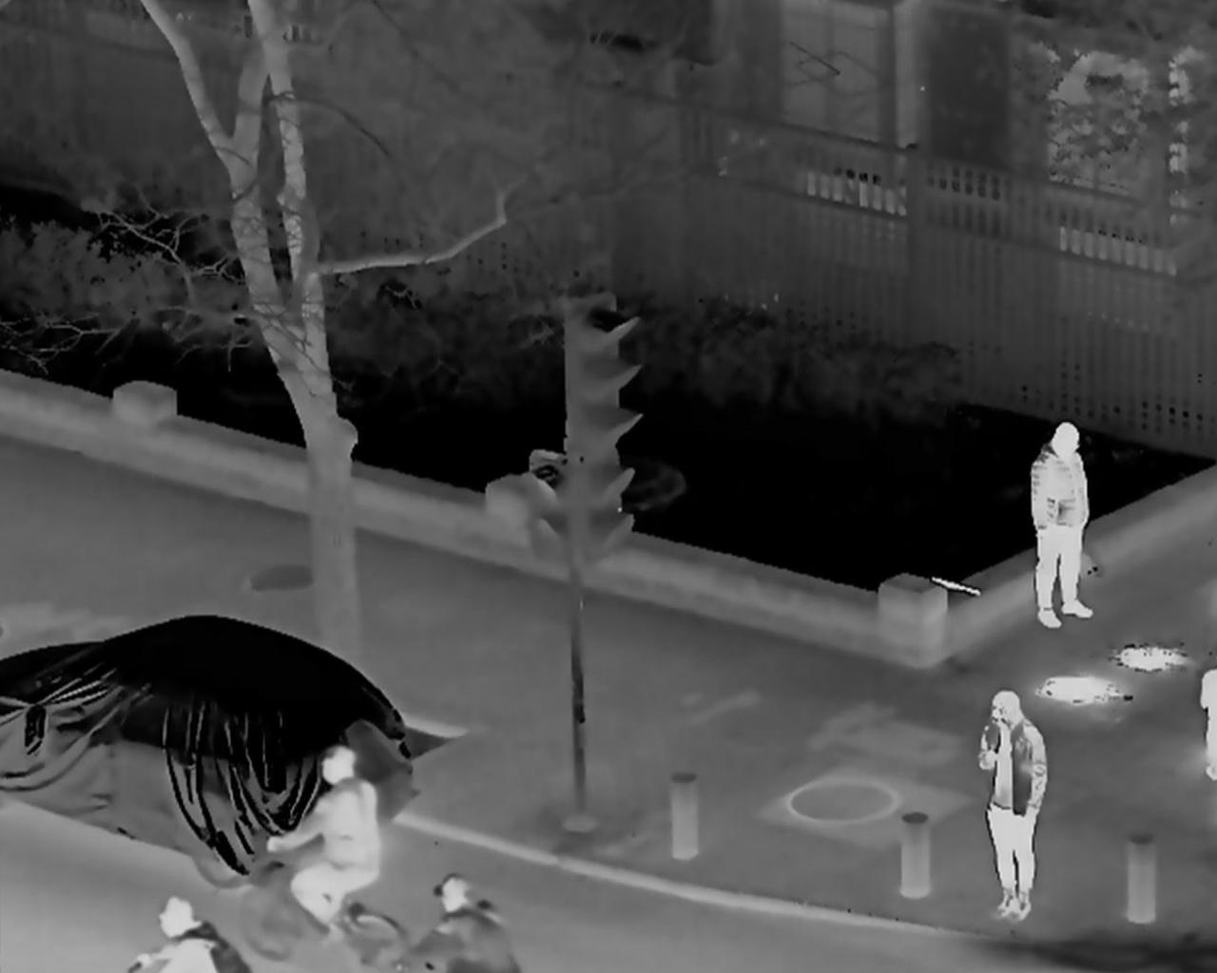person: (265, 747, 385, 928), (1021, 422, 1097, 636), (981, 686, 1043, 918), (384, 871, 519, 973), (138, 900, 246, 973)
